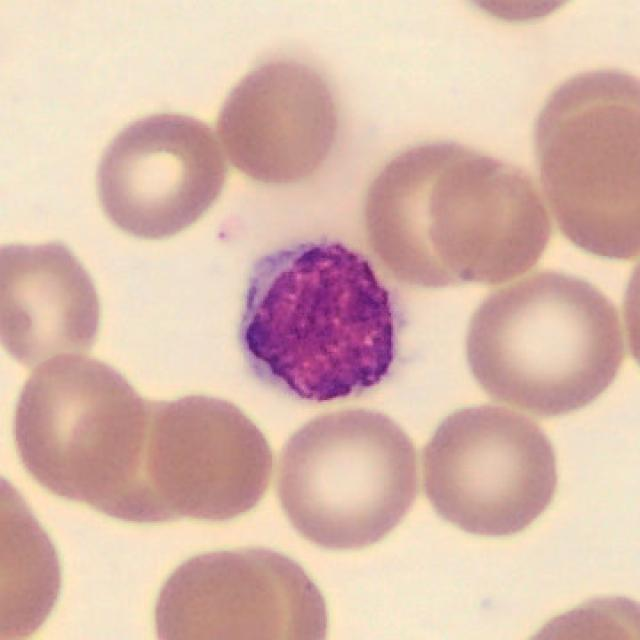Linfocito: (244, 244, 393, 400)
